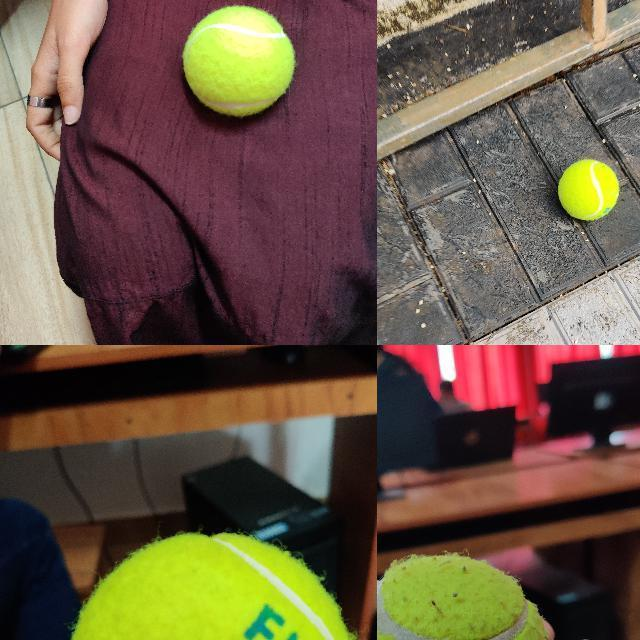tennis-ball: (67, 532, 353, 639), (377, 555, 550, 639), (183, 7, 293, 115), (557, 159, 619, 221)
